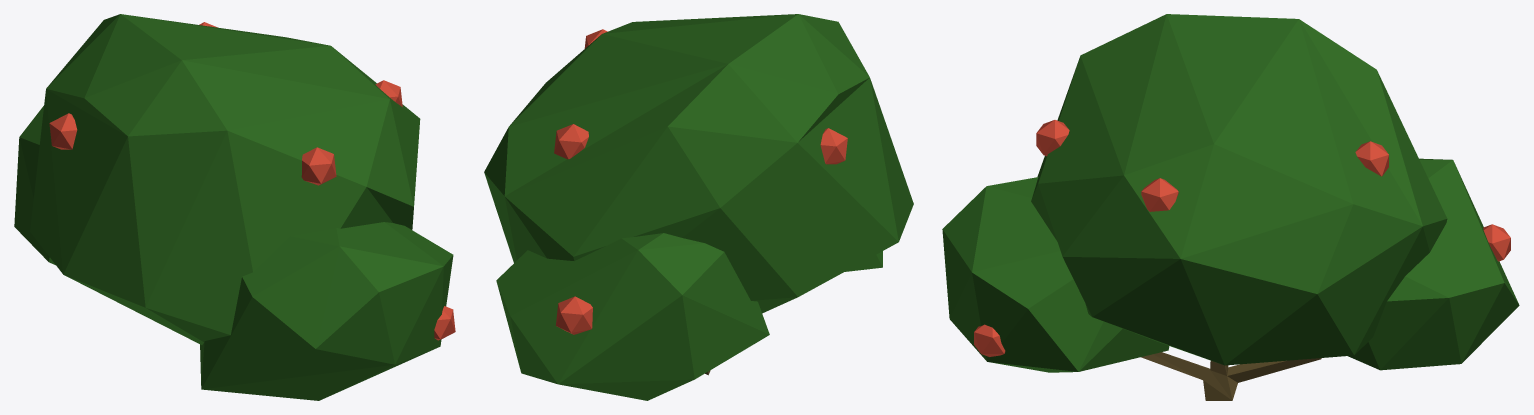
File: Bush3.3.fbx
3 views of the same model, side by side, from view 1: azimuth 30°, elevation 25°; view 2: azimuth 150°, elevation 25°; view 3: azimuth 270°, elevation 25° (orthographic).
Visible parts, largest first — view 1: Bush3.3; view 2: Bush3.3; view 3: Bush3.3.
Part boxes in pixels (box(x1,y1,x2,y2)): Bush3.3: box(14, 14, 455, 400); Bush3.3: box(484, 14, 913, 400); Bush3.3: box(942, 14, 1519, 400).
Bounding box in the file's own units: 118 × 111 × 164.
